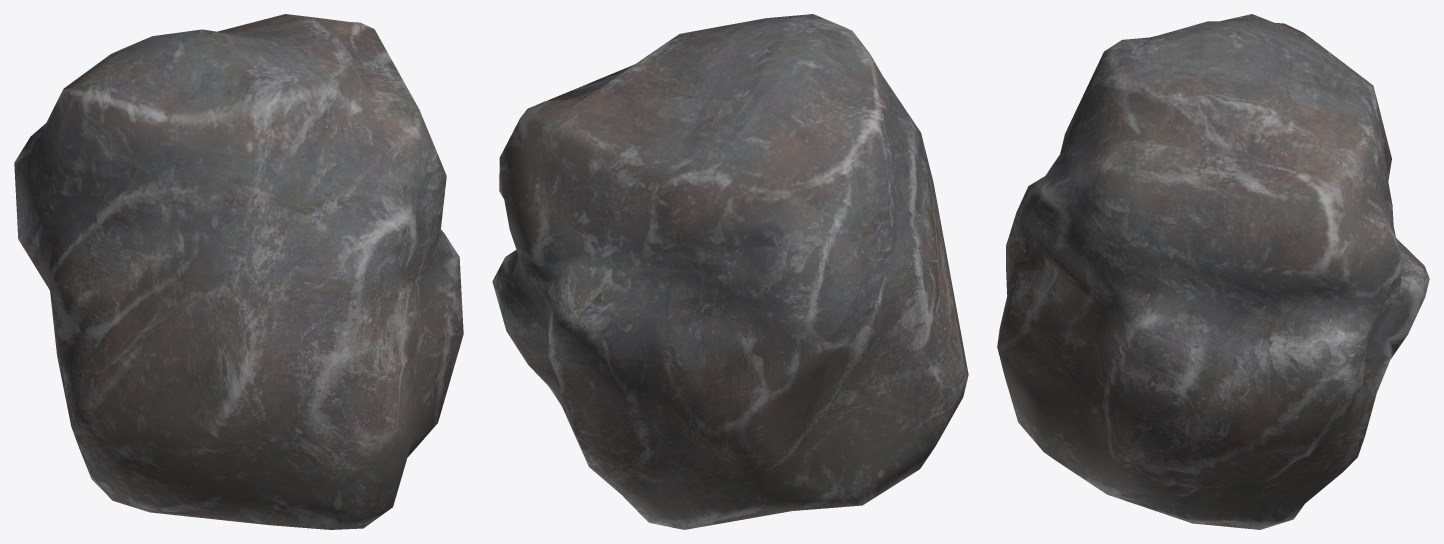
File: Rock.fbx
The picture shows the model from 3 angles, left to right: view 1: azimuth 30°, elevation 25°; view 2: azimuth 150°, elevation 25°; view 3: azimuth 270°, elevation 25°; orthographic projection. The views are drawn at different scales.
Parts seen in each view (by area): view 1: Plane; view 2: Plane; view 3: Plane.
Part boxes in pixels (x1,y1,x2,y2): Plane: (14,14,463,529); Plane: (492,14,968,529); Plane: (997,14,1429,529).
Bounding box in the file's own units: 203 × 241 × 209.
